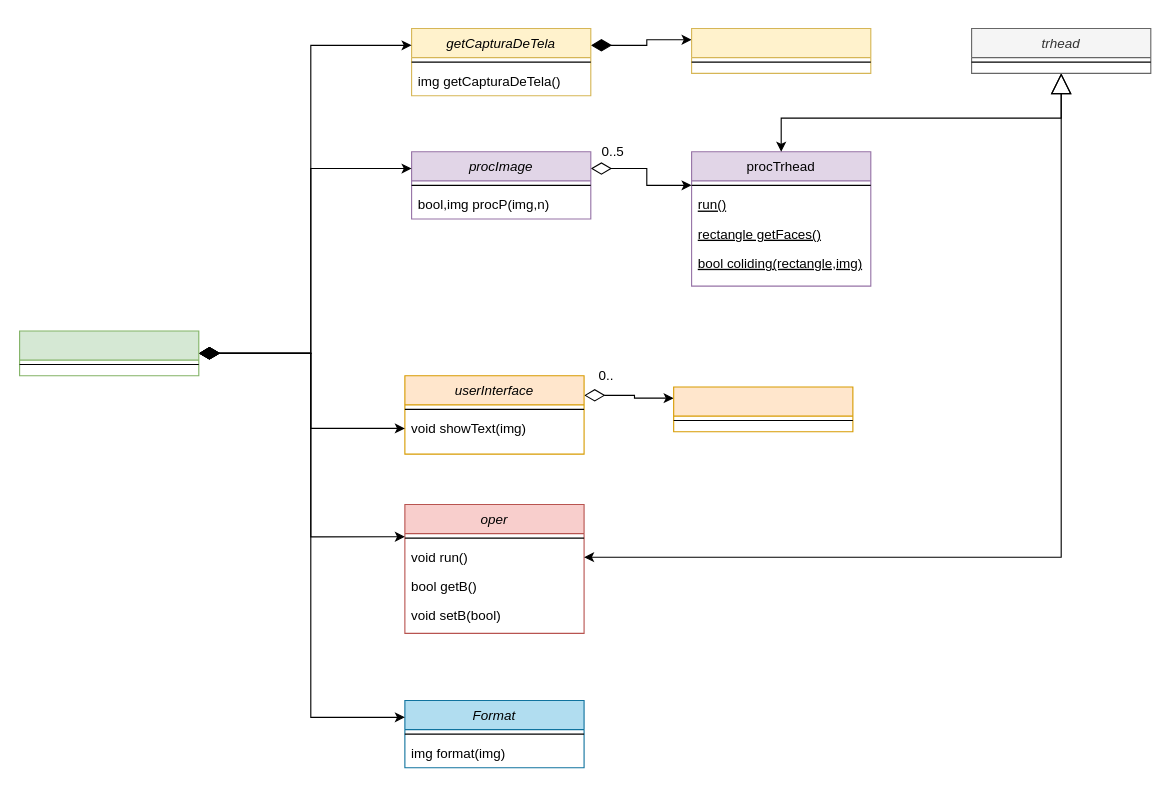
Some shapes in this 1170 by 791 pixel diagram are drawn without their labels. The centre of each missing label's shape, as x and y in pixels:
main: (108,353)
mss: (780,50)
ui: (763,409)
